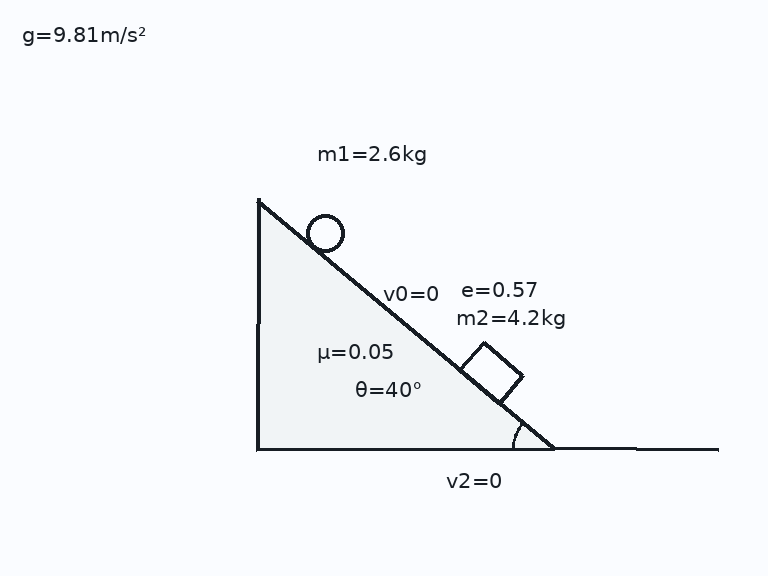ball: (304, 212, 346, 254)
block: (457, 340, 525, 405)
ramp: (255, 198, 555, 451)
